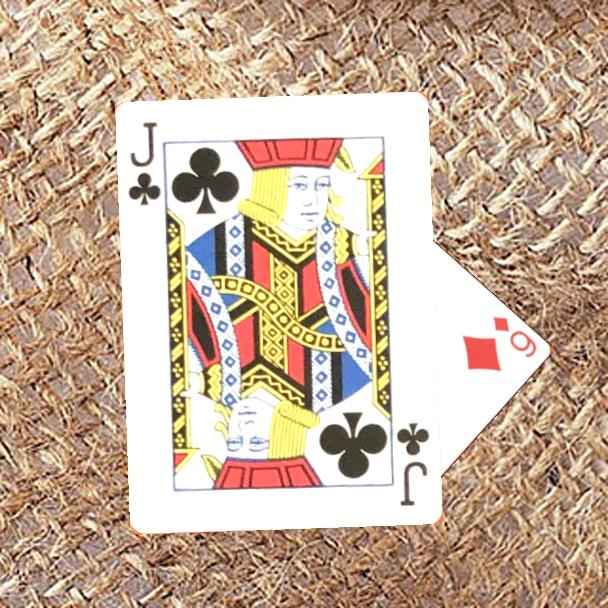c11: (394, 419, 433, 510), (125, 119, 164, 209)
d06: (490, 313, 540, 360)
